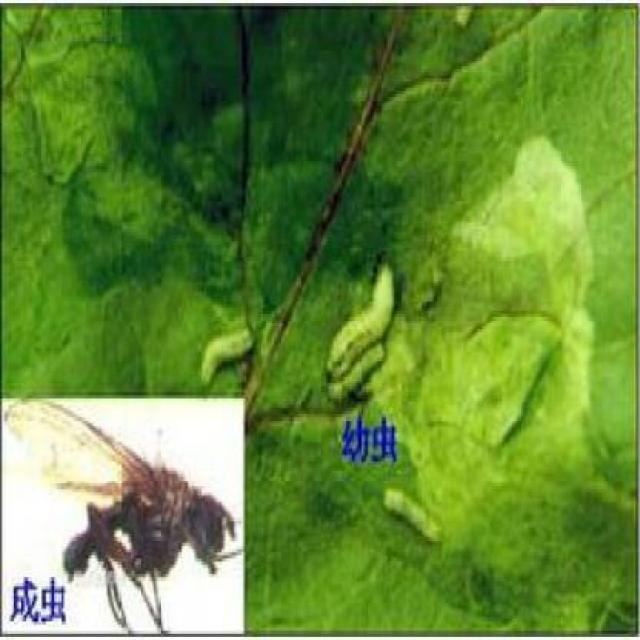whorl-maggot: (317, 246, 403, 402), (374, 469, 452, 562), (188, 323, 264, 392)
